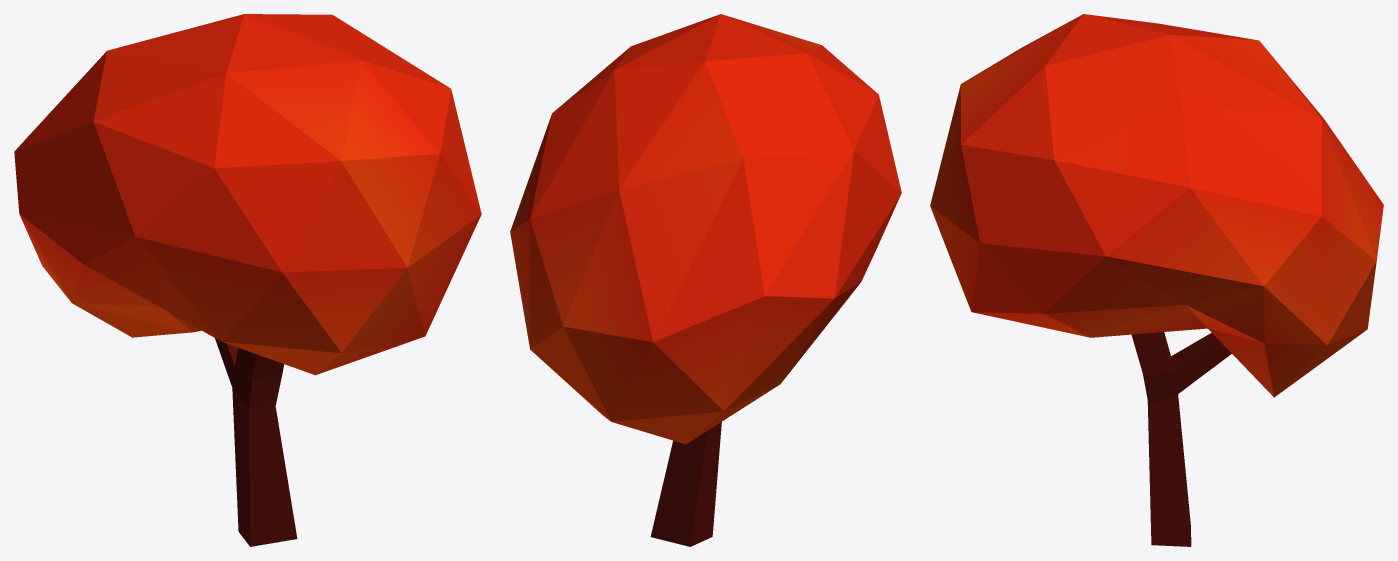
File: tree1.fbx
3 views of the same model, side by side, from view 1: azimuth 30°, elevation 25°; view 2: azimuth 150°, elevation 25°; view 3: azimuth 270°, elevation 25° (orthographic). The views are drawn at different scales.
Visible parts, largest first — view 1: Cube.001; view 2: Cube.001; view 3: Cube.001.
Part boxes in pixels (left/top/right/bottom): Cube.001: left=14, top=14, right=481, bottom=546; Cube.001: left=510, top=14, right=901, bottom=546; Cube.001: left=930, top=14, right=1383, bottom=546.
Size of the model in its own units: 617 by 850 by 712.
